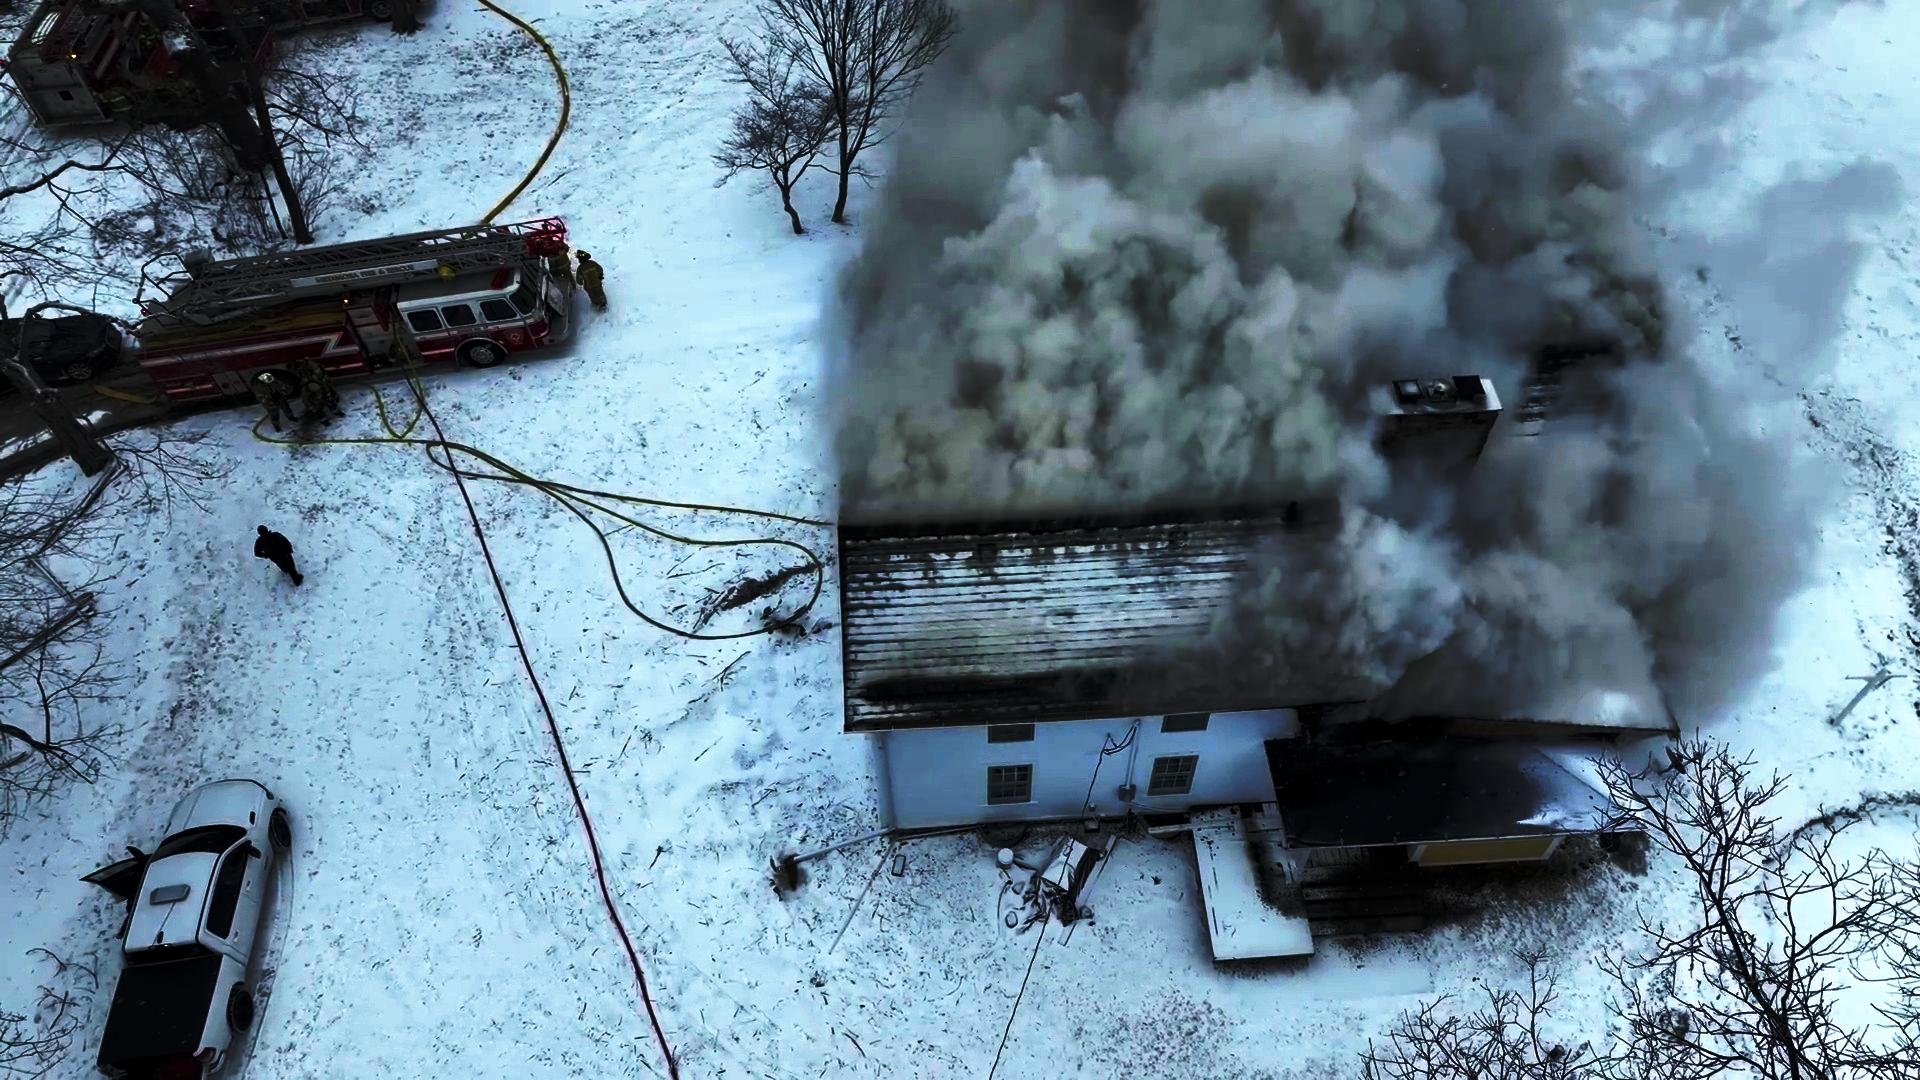smoke: (928, 120, 1321, 483)
